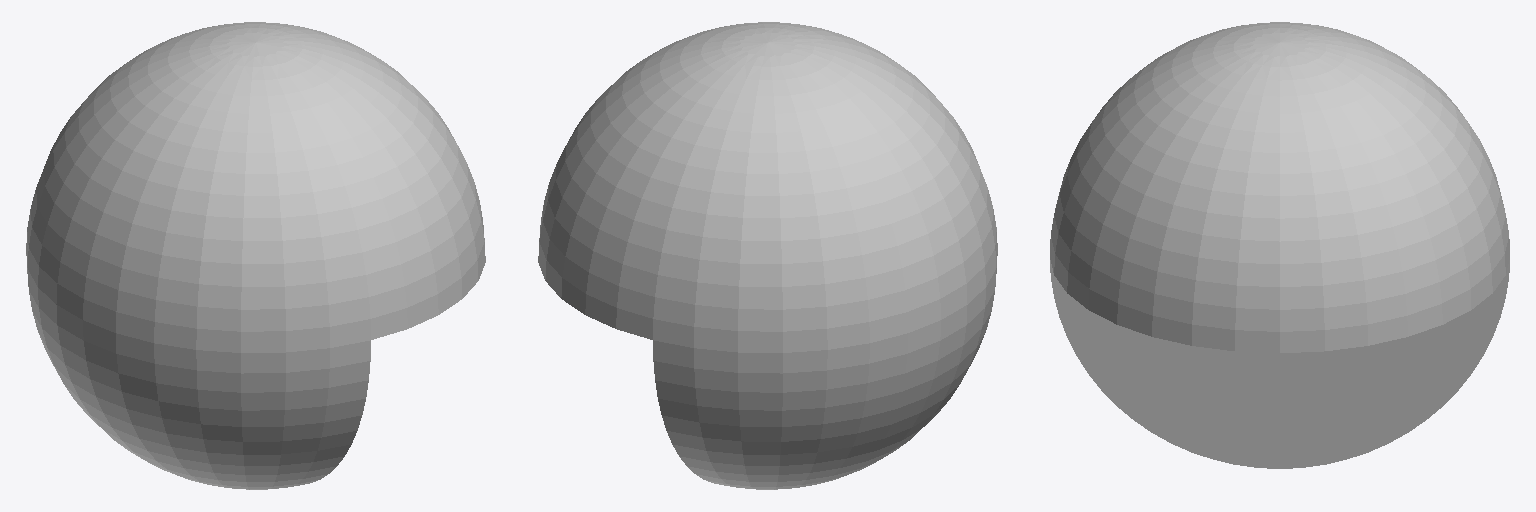
File: toilet_scaled.obj
3 renders of one model, left to right at view 1: azimuth 30°, elevation 25°; view 2: azimuth 150°, elevation 25°; view 3: azimuth 270°, elevation 25°, orthographic.
Visible parts, largest first — view 1: sphere2_cut3; view 2: sphere2_cut3; view 3: sphere2_cut3.
Boxes of the visible parts, box(x1,y1,x2,y2) form: sphere2_cut3: box(26, 22, 485, 489); sphere2_cut3: box(538, 22, 997, 489); sphere2_cut3: box(1050, 22, 1509, 468).
Bounding box in the file's own units: 1.76 × 1.8 × 1.76.